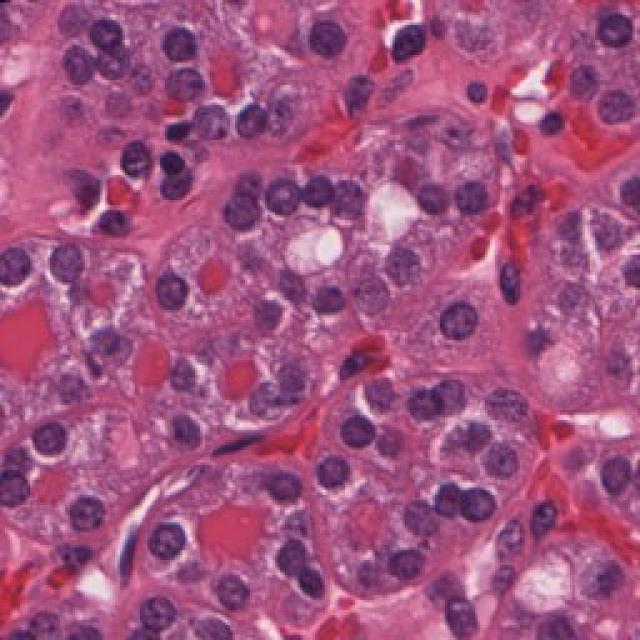abnormal: (118, 228, 220, 340), (289, 418, 364, 514), (447, 155, 519, 252), (333, 247, 403, 339), (575, 420, 640, 519), (72, 304, 146, 387), (575, 538, 640, 629), (577, 67, 640, 152), (428, 289, 497, 365), (122, 501, 201, 567), (0, 216, 55, 304), (482, 424, 549, 496), (590, 0, 640, 70)
